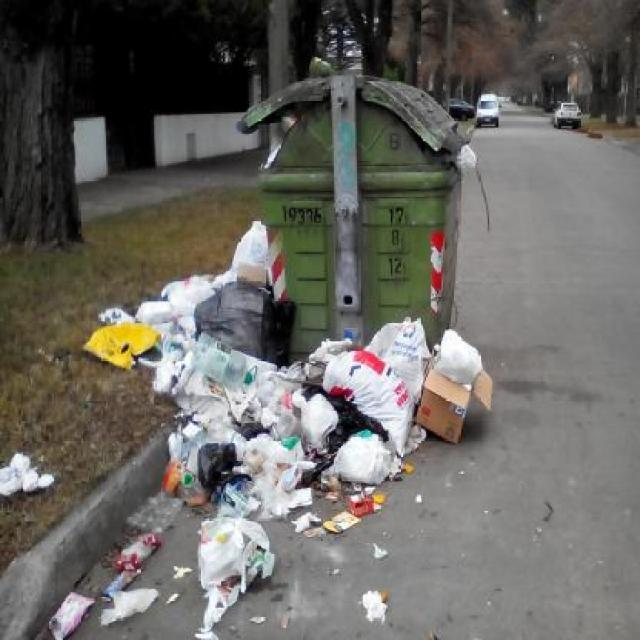garbage: (243, 328, 480, 512), (179, 323, 276, 612), (99, 246, 276, 368), (48, 531, 162, 632), (0, 451, 54, 498)
